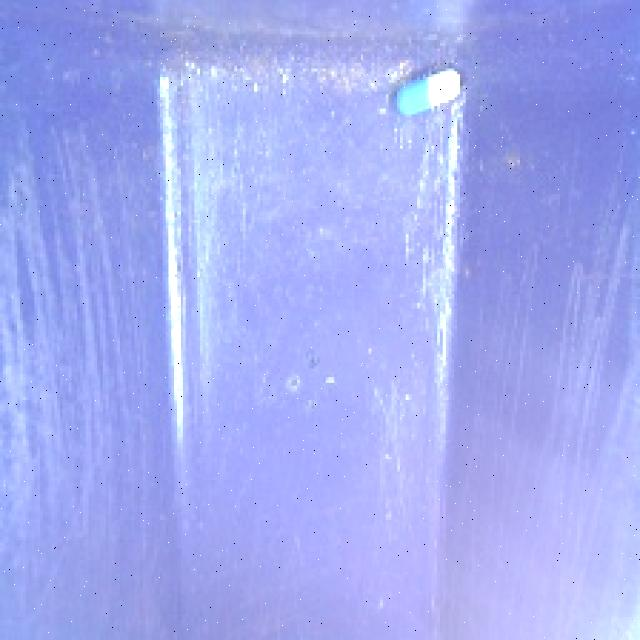small: (384, 59, 468, 124)
